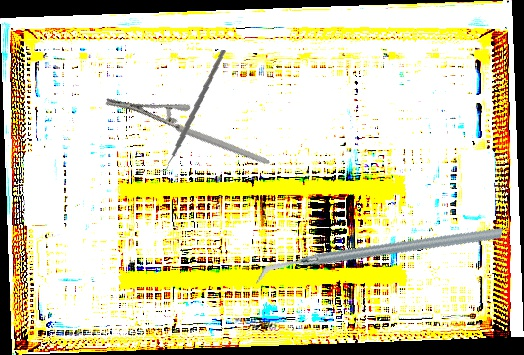Chopper: (255, 168, 504, 343), (141, 49, 238, 174)
Needle Holder: (102, 54, 271, 210)
